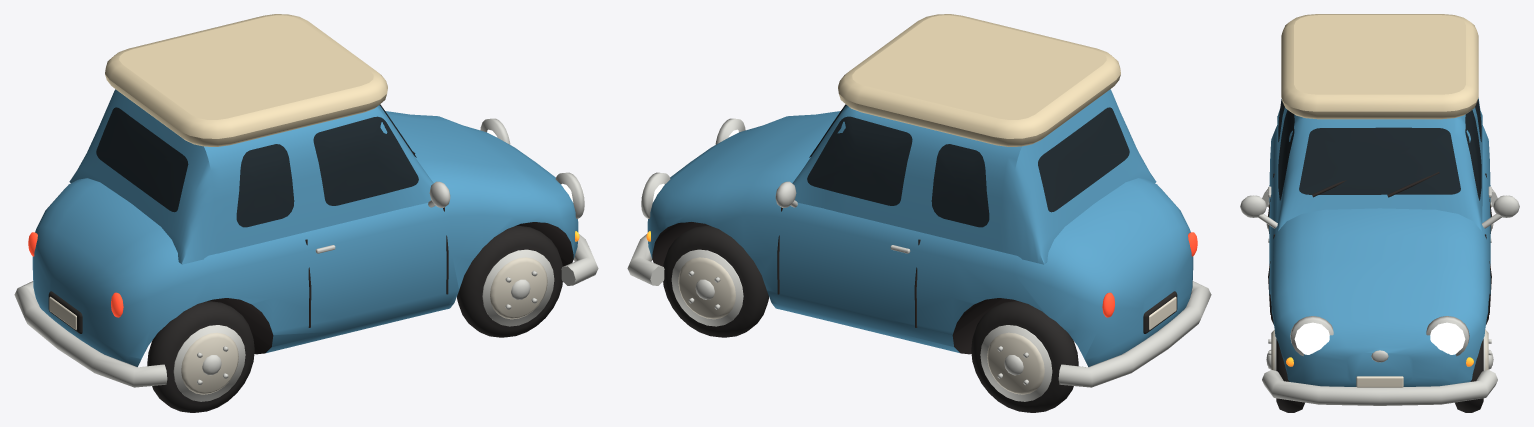
Rendered from car.glb.
3 renders of one model, left to right at view 1: azimuth 30°, elevation 25°; view 2: azimuth 150°, elevation 25°; view 3: azimuth 270°, elevation 25°, orthographic. The views are drawn at different scales.
Parts seen in each view (by area): view 1: Body, Roof, Cabin, FrontWindow-1, BackLight, WheelBR, WheelFR, RearWindow-1, BumperRear, WheelFRCap, WheelBRCap, WheelFRRim (+3 smaller); view 2: Body, Roof, Cabin, FrontWindow1, BackLight, WheelBL, WheelFL, RearWindow1, BumperRear, WheelFLCap, WheelBLCap, WheelFLRim (+3 smaller); view 3: Body, Roof, Windscreen, Cabin, BumperFront, Head1Lens, Head-1Lens, FrontWindow1, FrontWindow-1, WheelFL, WheelFR, PlateFront (+4 smaller).
Part boxes in pixels (<box>): Body: <box>32,111,578,366</box>; Roof: <box>105,14,387,146</box>; Cabin: <box>69,89,433,264</box>; FrontWindow-1: <box>313,116,418,205</box>; BackLight: <box>96,107,188,212</box>; WheelBR: <box>147,301,254,412</box>; WheelFR: <box>457,226,562,337</box>; RearWindow-1: <box>236,144,294,227</box>; BumperRear: <box>14,281,167,387</box>; WheelFRCap: <box>490,257,547,319</box>; WheelBRCap: <box>181,332,238,394</box>; WheelFRRim: <box>482,249,554,326</box>; Body: <box>647,111,1193,366</box>; Roof: <box>838,14,1120,146</box>; Cabin: <box>792,89,1156,264</box>; FrontWindow1: <box>807,116,912,205</box>; BackLight: <box>1038,107,1129,212</box>; WheelBL: <box>971,301,1078,412</box>; WheelFL: <box>663,226,768,337</box>; RearWindow1: <box>931,144,989,227</box>; BumperRear: <box>1058,281,1211,387</box>; WheelFLCap: <box>678,257,735,319</box>; WheelBLCap: <box>987,332,1044,394</box>; WheelFLRim: <box>671,249,743,326</box>; Body: <box>1269,125,1490,386</box>; Roof: <box>1281,14,1478,119</box>; Windscreen: <box>1299,127,1460,194</box>; Cabin: <box>1277,98,1482,231</box>; BumperFront: <box>1262,370,1497,405</box>; Head1Lens: <box>1430,322,1465,354</box>; Head-1Lens: <box>1294,322,1329,354</box>; FrontWindow1: <box>1465,110,1481,200</box>; FrontWindow-1: <box>1278,110,1294,200</box>; WheelFL: <box>1455,339,1483,412</box>; WheelFR: <box>1276,339,1304,412</box>; PlateFront: <box>1356,376,1403,387</box>.
Size of the model in its own units: 2.67 by 1.44 by 1.42.
